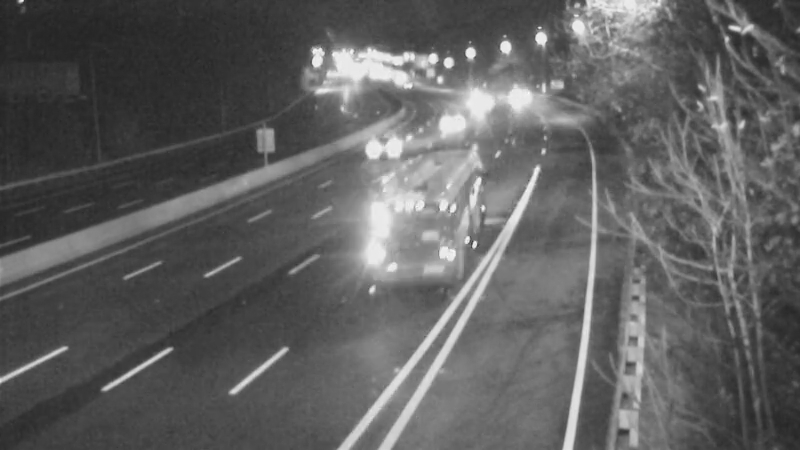vehicle: (373, 190, 453, 270), (494, 69, 544, 119), (456, 78, 506, 128), (424, 99, 474, 149), (363, 119, 413, 169)
